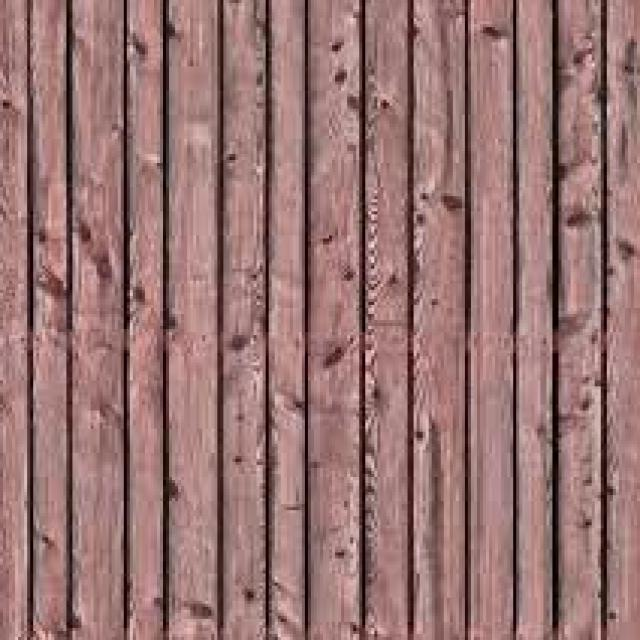perfect-wooden-plate: (251, 0, 305, 640), (308, 0, 362, 640), (71, 0, 124, 640), (413, 0, 466, 640), (167, 0, 219, 640), (219, 0, 266, 640), (363, 0, 410, 640), (467, 0, 514, 640), (558, 0, 601, 640), (31, 0, 68, 640), (126, 0, 163, 640), (515, 0, 552, 640), (605, 0, 640, 640)
